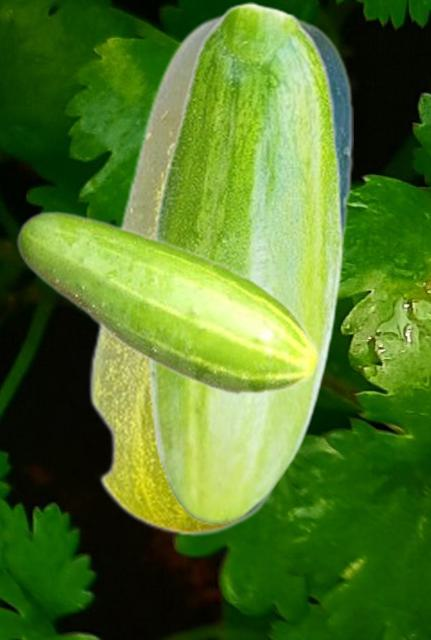cucumber: (87, 7, 352, 536), (147, 2, 342, 524), (16, 210, 320, 397)
